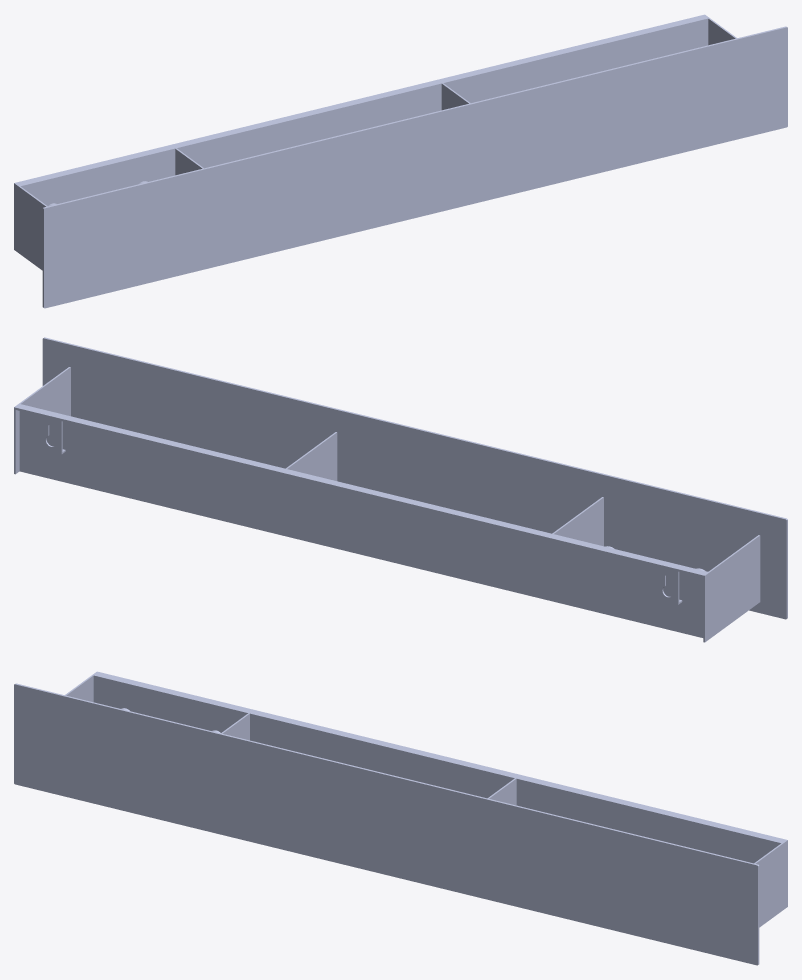
The model's file is skyline-patron.e5a0af70a5.glb.
3 renders of one model, top to bottom at view 1: azimuth 30°, elevation 25°; view 2: azimuth 150°, elevation 25°; view 3: azimuth 330°, elevation 25°, orthographic.
Parts seen in each view (by area): view 1: NAUO1; view 2: NAUO1; view 3: NAUO1.
Boxes of the visible parts, <box> form: NAUO1: <box>14,14,787,308</box>; NAUO1: <box>14,337,787,642</box>; NAUO1: <box>14,671,787,965</box>.
Size of the model in its own units: 0.7 by 0.09 by 0.092.
